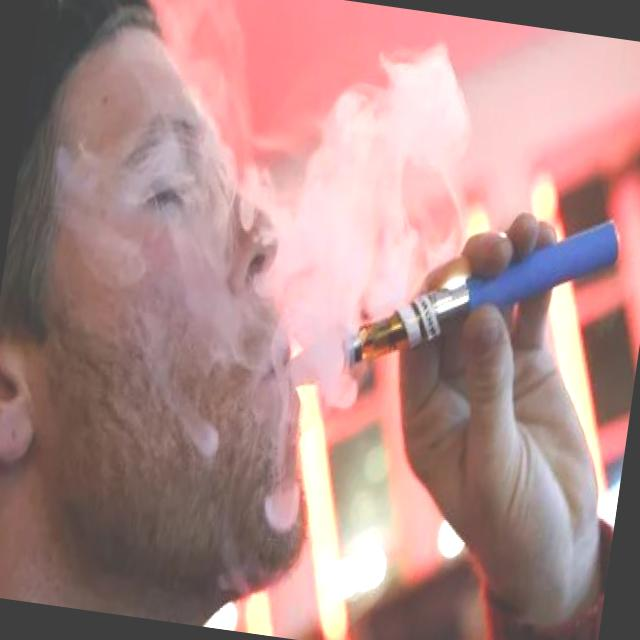smoke: (322, 174, 628, 418)
